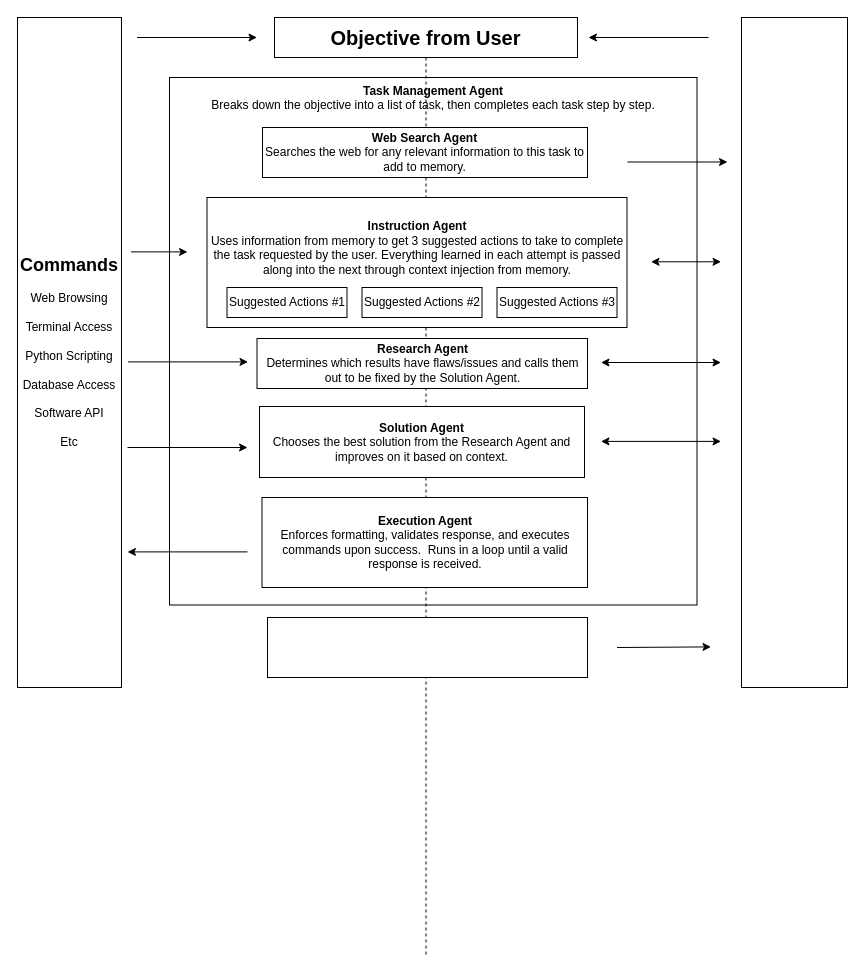
The diagram is 865 pixels wide and 975 high, and some of its shapes have lost their labels. The centre of each missing label's shape, as x and y in pixels:
"Final Output" goes at (x=427, y=647).
"Memories" goes at (x=794, y=352).
